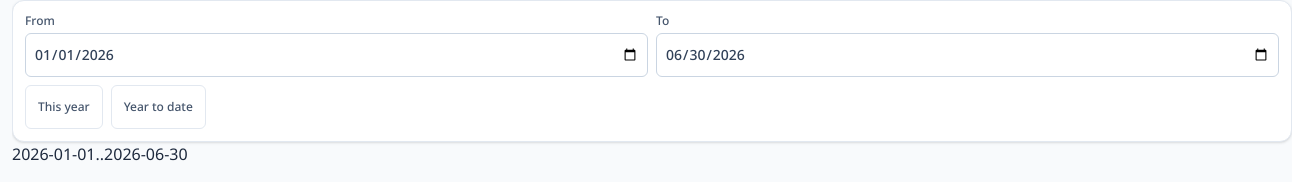
Test case: DateRangeFilter › commits a usable edit
Type "2026-07-31" into the date field labelled "To" at (968, 55), box [656,33,1279,77]
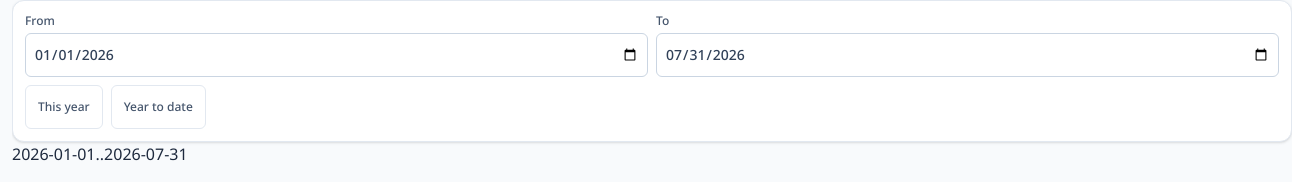
expect the text with test id "committed" reads "2026-01-01..2026-07-31": met, box [12,143,188,165]
